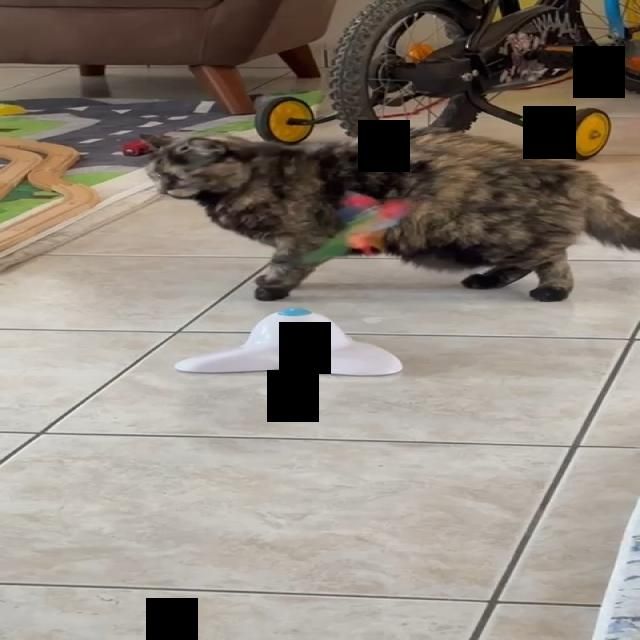authorized: (134, 115, 638, 302)
